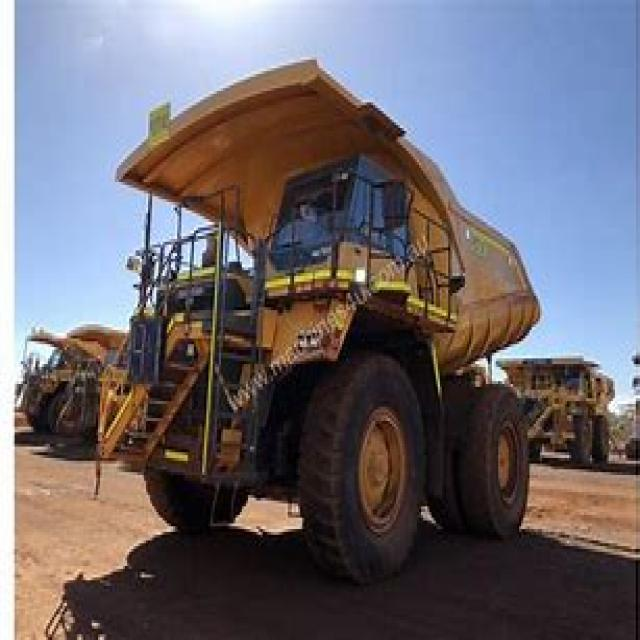dump_truck: (88, 46, 548, 580)
